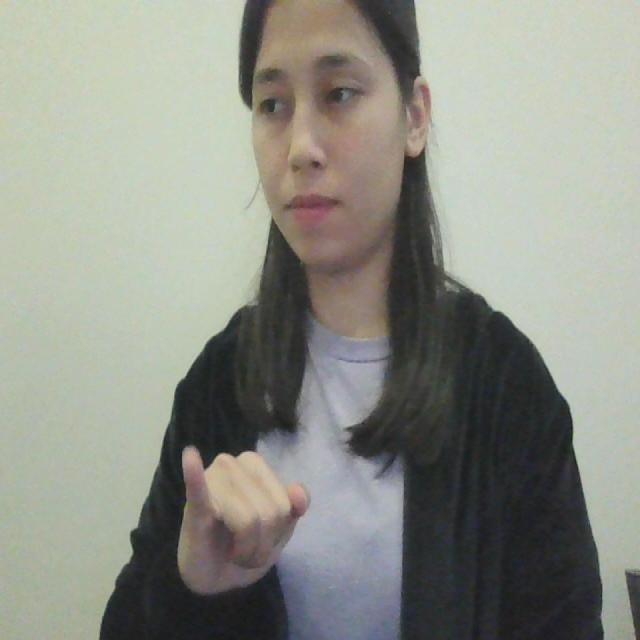kotu: (175, 434, 318, 594)
